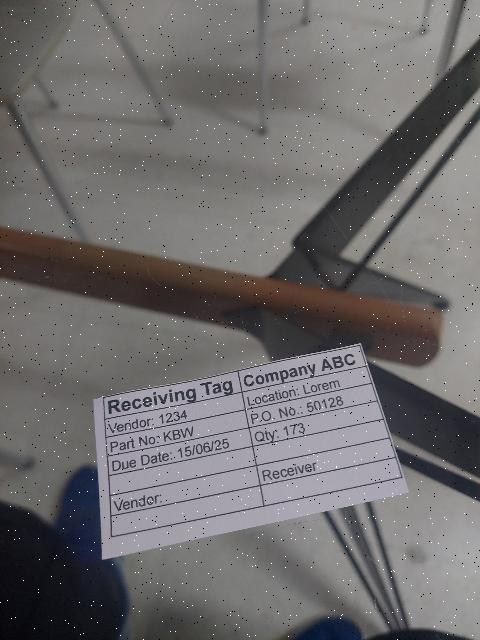PO no: (246, 384, 378, 427)
part no: (106, 410, 248, 456)
qty: (249, 401, 384, 446)
tags: (92, 344, 408, 560)
